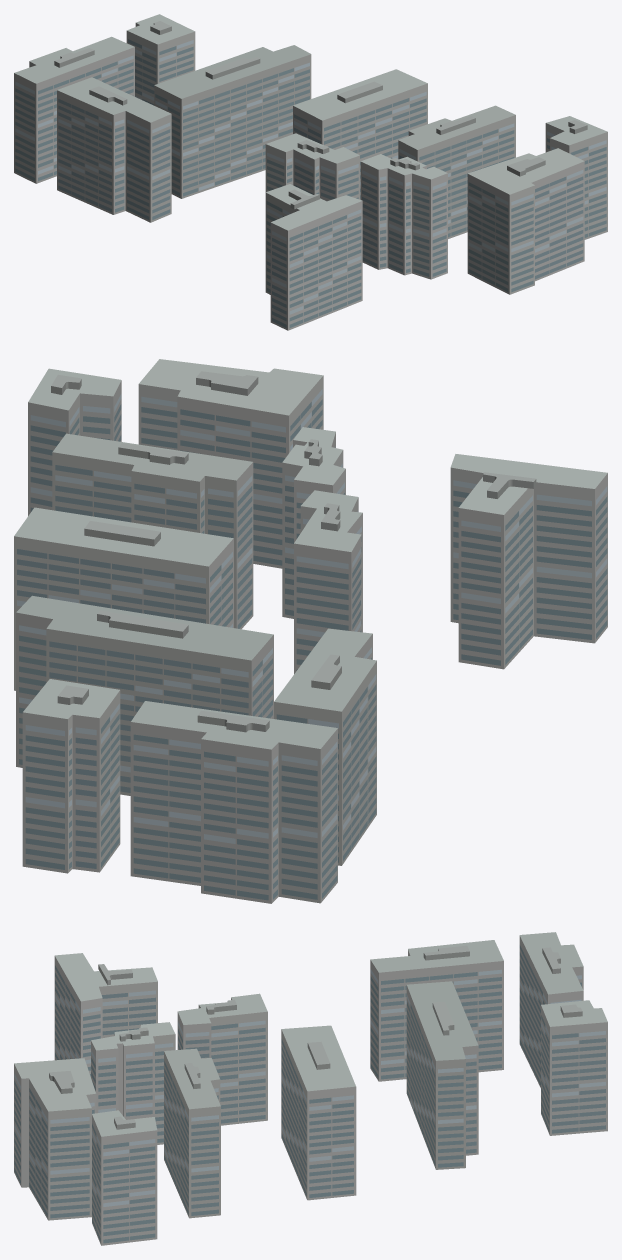
Rendered from apt-a10022652.glb.
3 renders of one model, top to bottom at view 1: azimuth 30°, elevation 25°; view 2: azimuth 150°, elevation 25°; view 3: azimuth 270°, elevation 25°, orthographic. The views are drawn at different scales.
Visible parts, largest first — view 1: apt-a10022652; view 2: apt-a10022652; view 3: apt-a10022652.
Boxes of the visible parts, box(x1,y1,x2,y2) form: apt-a10022652: box(14, 14, 607, 330); apt-a10022652: box(14, 359, 607, 903); apt-a10022652: box(14, 932, 607, 1245).
Size of the model in its own units: 184 by 47.81 by 226.
